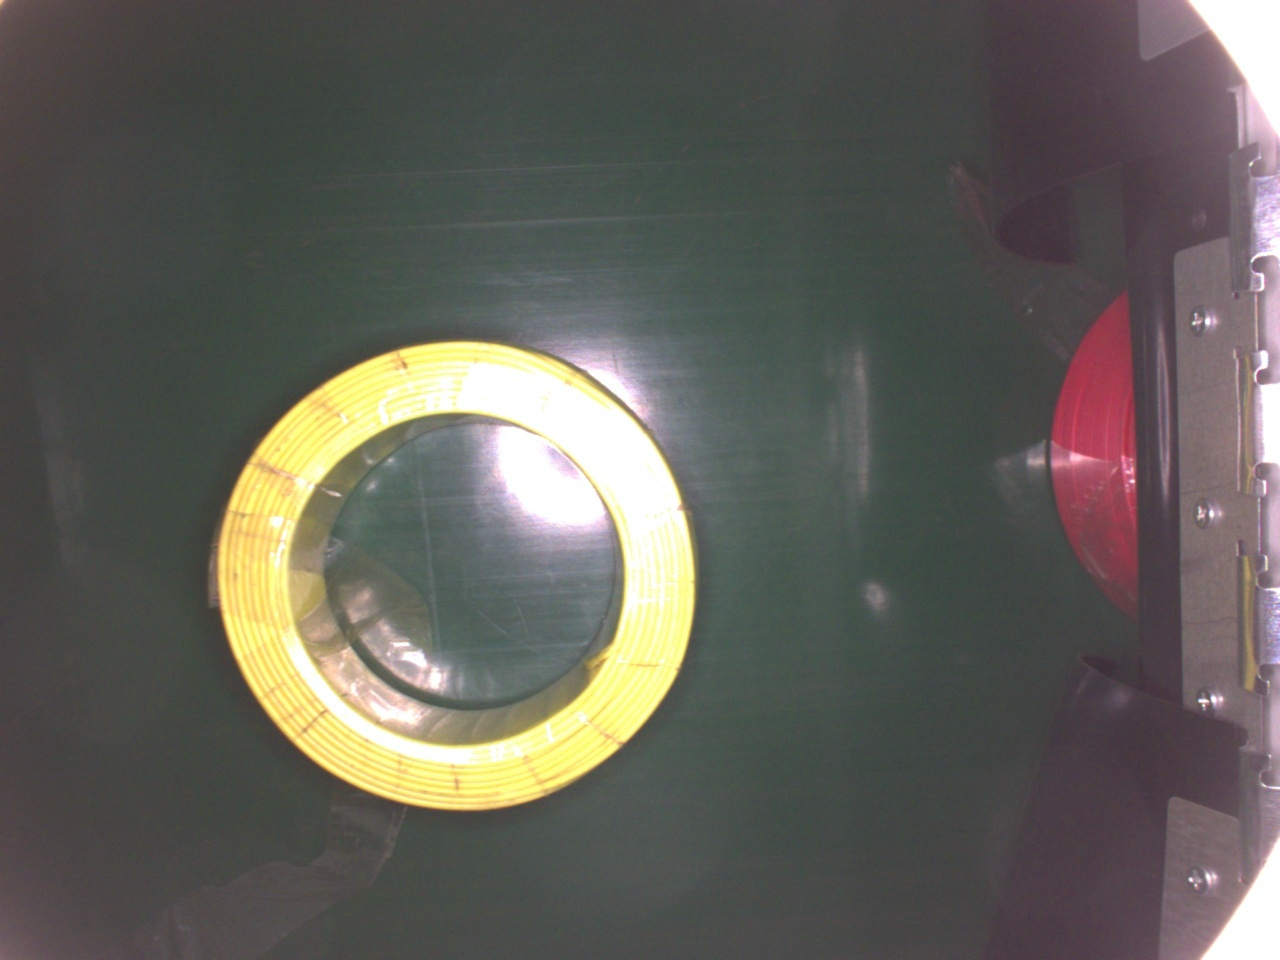yellow: (210, 334, 698, 815)
